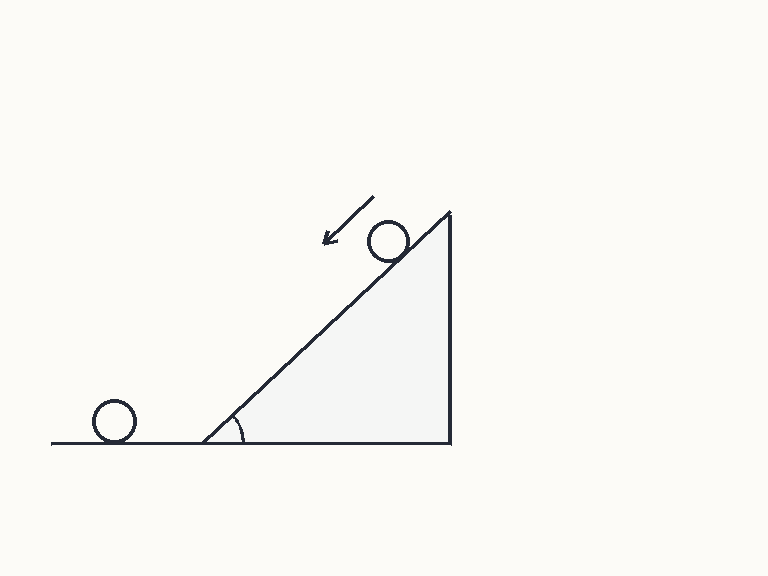ball: (90, 397, 138, 445), (365, 218, 411, 264)
ramp: (201, 210, 452, 445)
